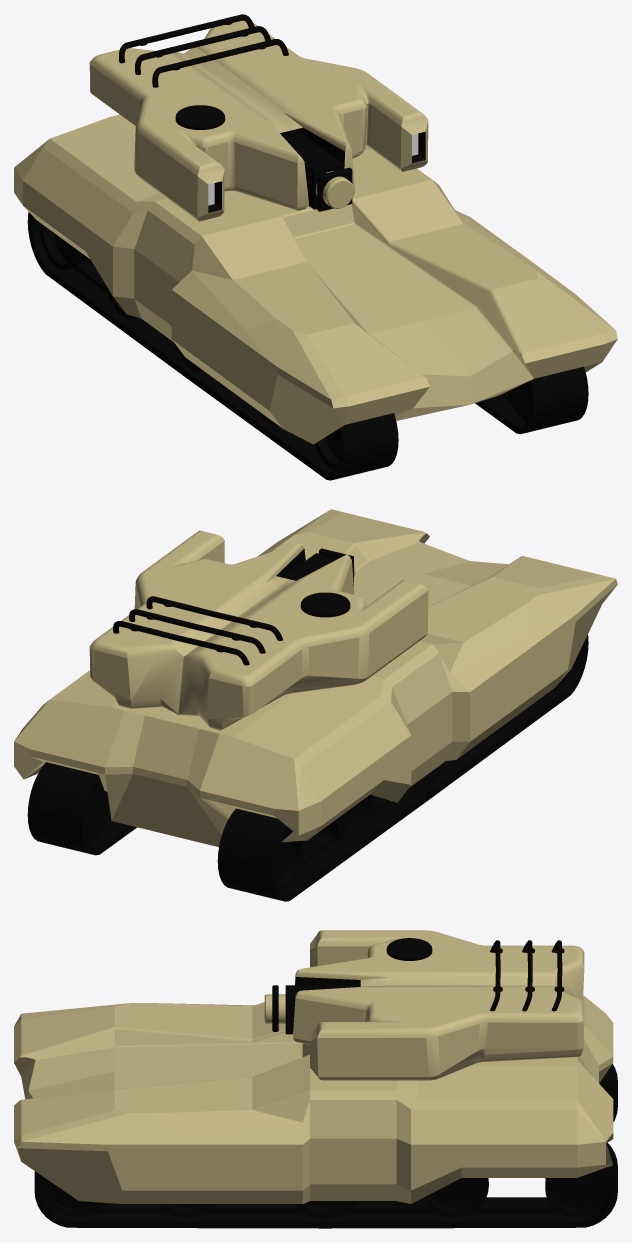
The model's file is Mastodon.fbx.
3 views of the same model, one above another, from view 1: azimuth 30°, elevation 25°; view 2: azimuth 150°, elevation 25°; view 3: azimuth 270°, elevation 25° (orthographic). The views are drawn at different scales.
Visible parts, largest first — view 1: body, turret, Tracks, BarrelBase, Wheel.002, Wheel, Top Cylinder, Back Bar 1, Back Bar 2, Back Bar 3, Barrel; view 2: body, turret, Tracks, Wheel, Wheel.004, Top Cylinder, Back Bar 2, Back Bar 3, Back Bar 1, BarrelBase; view 3: body, turret, Tracks, Wheel, Wheel.004, Wheel.002, Top Cylinder, Wheel.001, BarrelBase, Wheel.003, Barrel, Back Bar 1 (+2 smaller).
Part boxes in pixels (x1=…): body: x1=14, y1=114, x2=617, y2=444; turret: x1=89, y1=20, x2=428, y2=221; Tracks: x1=27, y1=212, x2=588, y2=480; BarrelBase: x1=285, y1=134, x2=343, y2=209; Wheel.002: x1=315, y1=382, x2=530, y2=469; Wheel: x1=39, y1=222, x2=92, y2=270; Top Cylinder: x1=175, y1=105, x2=225, y2=129; Back Bar 1: x1=152, y1=39, x2=288, y2=87; Back Bar 2: x1=135, y1=26, x2=270, y2=74; Back Bar 3: x1=119, y1=14, x2=254, y2=63; Barrel: x1=315, y1=171, x2=353, y2=208; body: x1=14, y1=509, x2=617, y2=846; turret: x1=89, y1=530, x2=428, y2=730; Tracks: x1=27, y1=634, x2=588, y2=901; Wheel: x1=85, y1=782, x2=304, y2=890; Wheel.004: x1=317, y1=794, x2=373, y2=841; Top Cylinder: x1=300, y1=592, x2=350, y2=617; Back Bar 2: x1=129, y1=609, x2=265, y2=653; Back Bar 3: x1=113, y1=621, x2=249, y2=665; Back Bar 1: x1=146, y1=596, x2=282, y2=640; BarrelBase: x1=283, y1=553, x2=338, y2=580; body: x1=14, y1=995, x2=613, y2=1203; turret: x1=293, y1=930, x2=584, y2=1080; Tracks: x1=34, y1=1064, x2=617, y2=1228; Wheel: x1=545, y1=1083, x2=609, y2=1217; Wheel.004: x1=423, y1=1178, x2=488, y2=1217; Wheel.002: x1=44, y1=1178, x2=103, y2=1217; Top Cylinder: x1=386, y1=938, x2=432, y2=960; Wheel.001: x1=293, y1=1201, x2=357, y2=1218; BarrelBase: x1=285, y1=985, x2=360, y2=1034; Wheel.003: x1=159, y1=1204, x2=214, y2=1217; Barrel: x1=264, y1=994, x2=285, y2=1023; Back Bar 1: x1=490, y1=940, x2=500, y2=1011.
Size of the model in its own units: 440 by 318 by 837.
